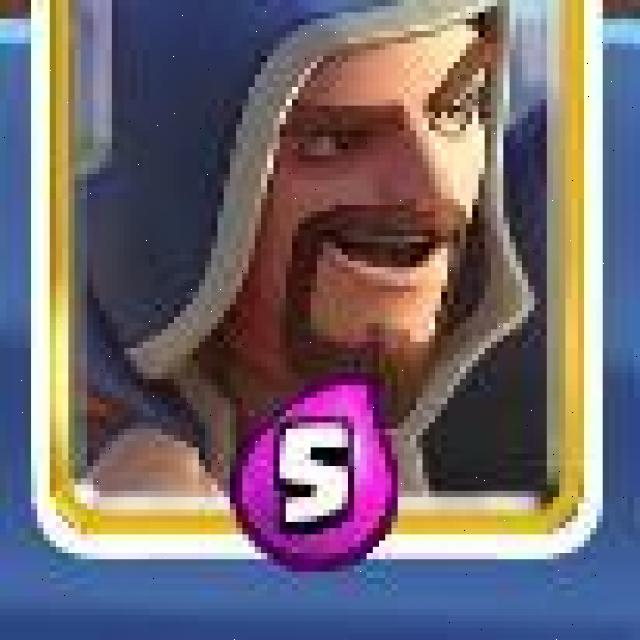Wizard: (30, 0, 601, 560)
